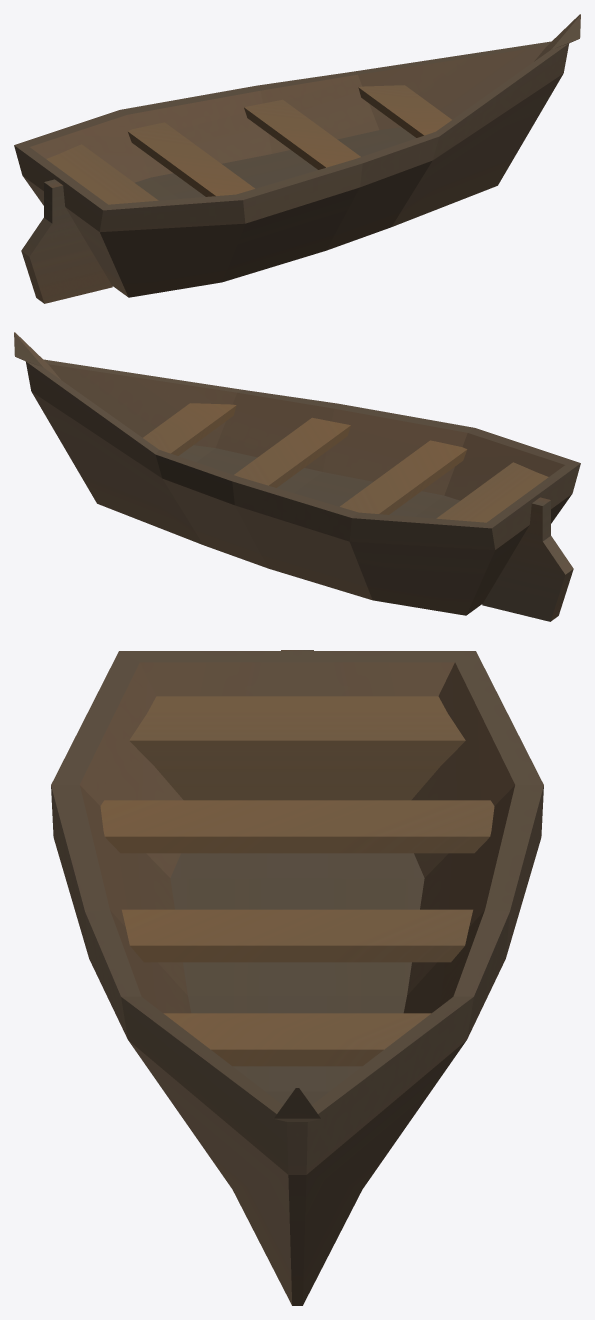
File: Boat_1_LOD1.fbx
The picture shows the model from 3 angles, top to bottom: view 1: azimuth 30°, elevation 25°; view 2: azimuth 150°, elevation 25°; view 3: azimuth 270°, elevation 25°; orthographic projection. The views are drawn at different scales.
Parts seen in each view (by area): view 1: polySurface9686; view 2: polySurface9686; view 3: polySurface9686.
Boxes of the visible parts, x1=… form: polySurface9686: x1=14, y1=14, x2=580, y2=303; polySurface9686: x1=14, y1=332, x2=580, y2=621; polySurface9686: x1=51, y1=650, x2=543, y2=1305.
Bounding box in the file's own units: 510 × 136 × 196.
